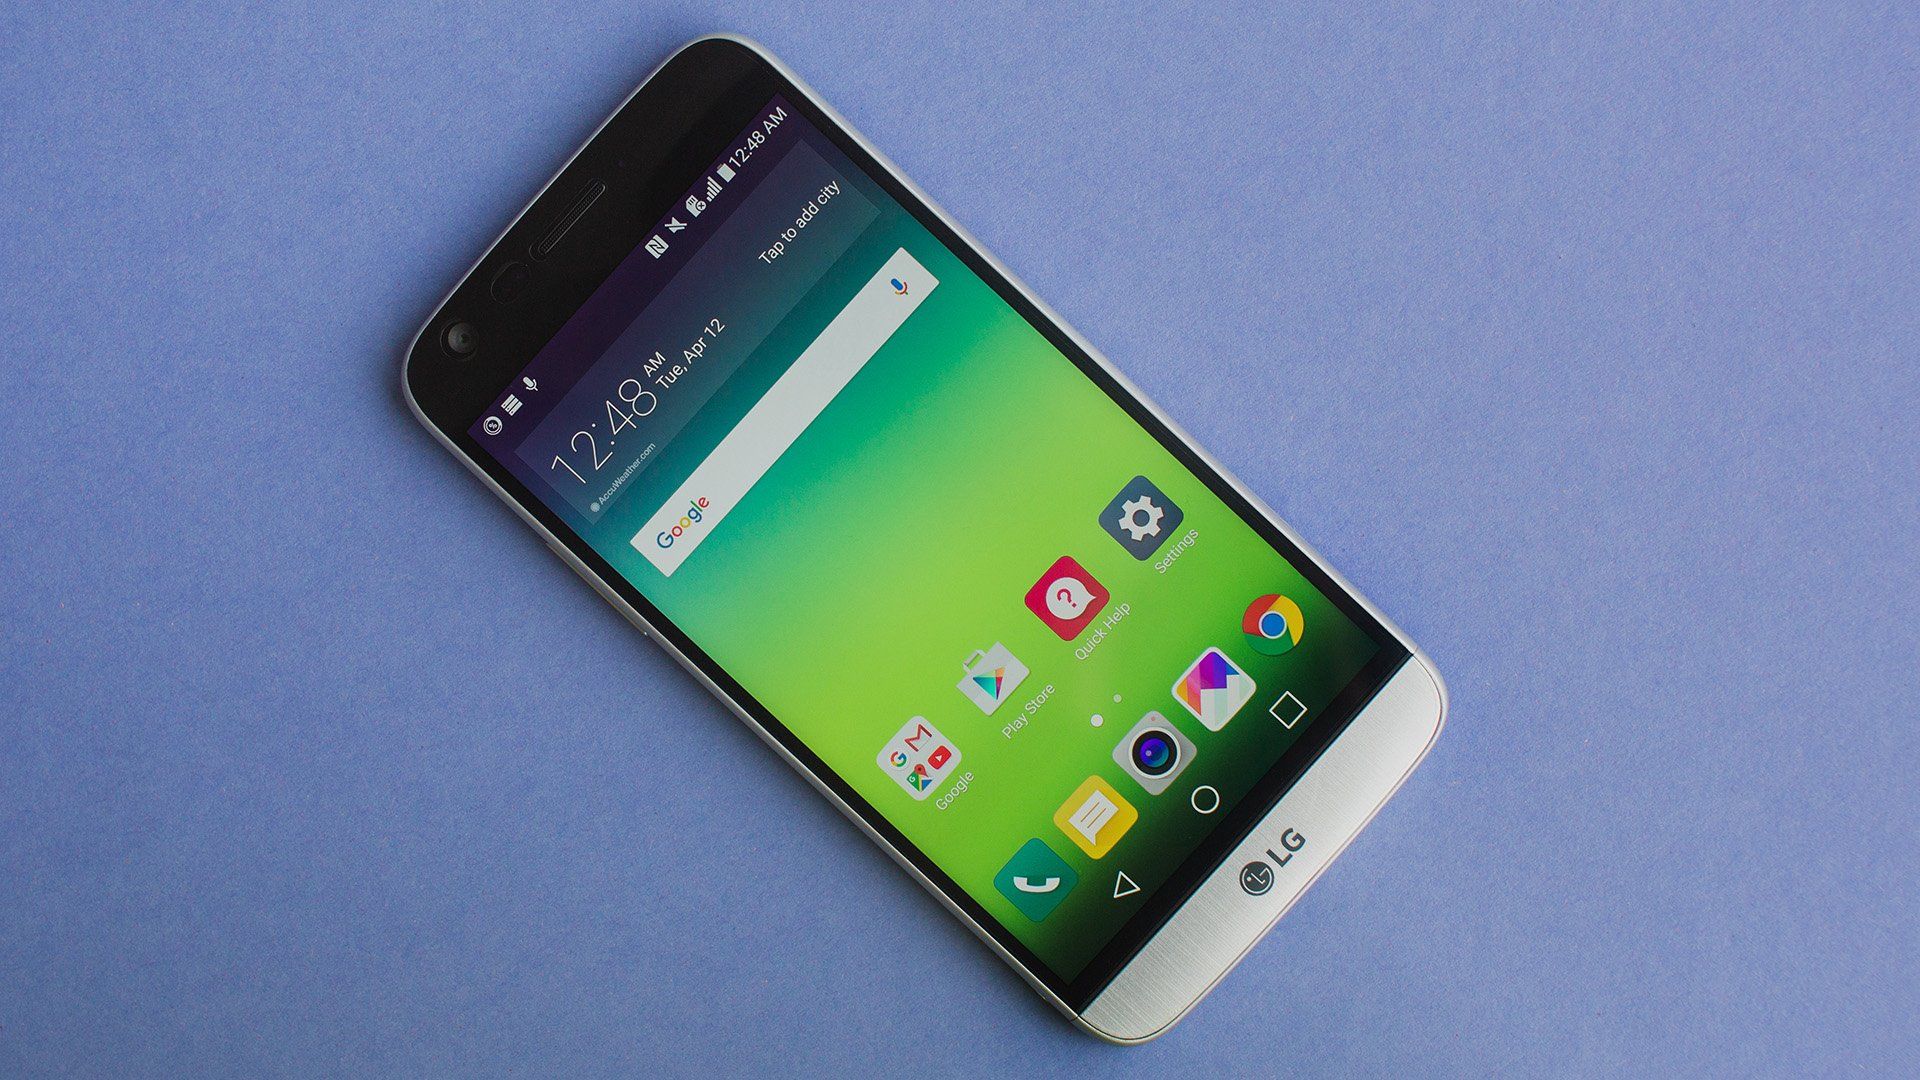smartphone: (400, 32, 1447, 1044)
